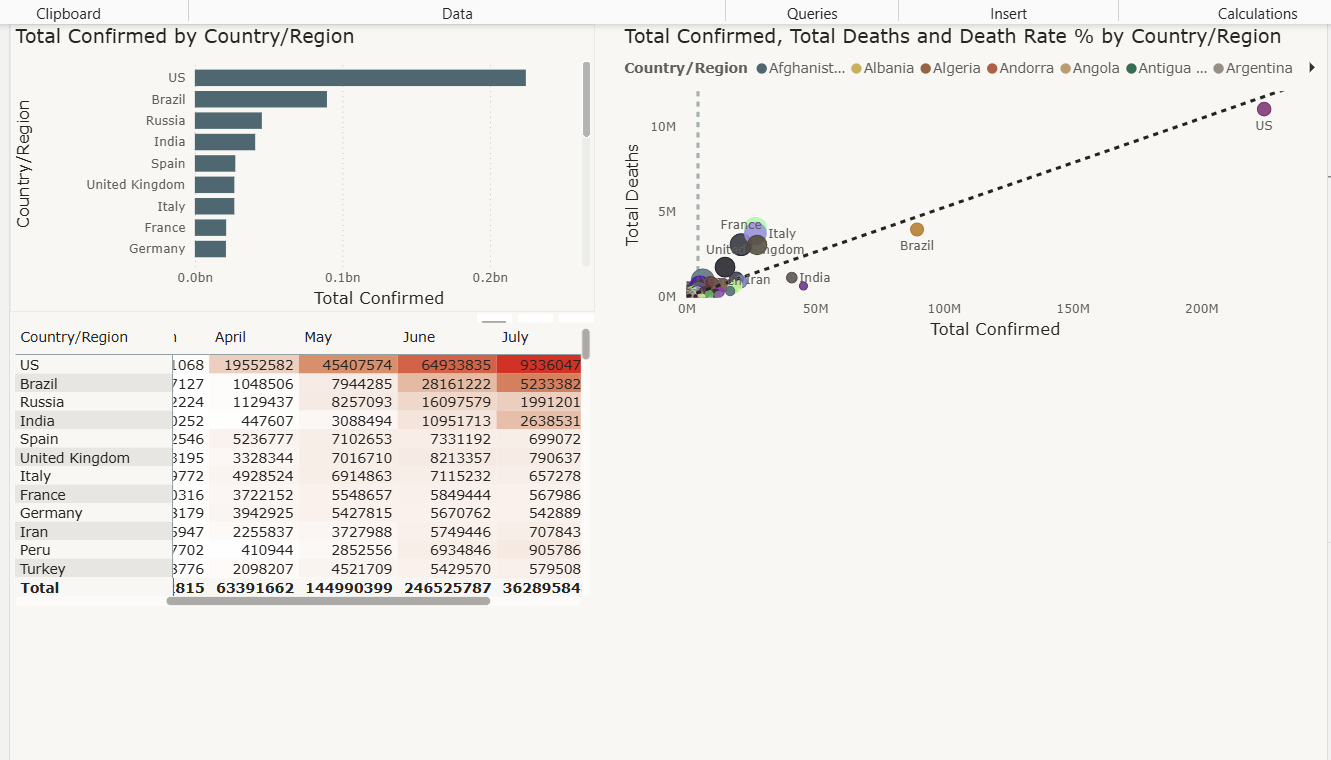

The dashboard page shown, as its layout file describes it:
{"tool":"powerbi","page":{"name":"Country Comparison","canvas":[1280,720],"ordinal":1},"visuals":[{"type":"clusteredBarChart","fields":{"Y":["Table.Total Confirmed"],"Category":["COVID.Country/Region"]},"box":[0,0,568.8,279.7],"z":0},{"type":"pivotTable","fields":{"Rows":["COVID.Country/Region"],"Columns":["Date.Month Name"],"Values":["Table.Total Confirmed"]},"box":[0,290,569,280],"z":1000},{"type":"scatterChart","fields":{"X":["_Measures.Total Confirmed"],"Y":["_Measures.Total Deaths"],"Size":["_Measures.Death Rate %"],"Series":["COVID.Country/Region"]},"box":[591.5,0,687.9,309.9],"z":2000}]}

Visuals, with their boxes on the page's 1280x720 design canvas (x1, y1, x2, y2). These are canvas units, not pixel positions in the 1331x760 screenshot, which may show the page scaled, cropped or inside an application window:
clusteredBarChart - Table.Total Confirmed x COVID.Country/Region: box(0, 0, 569, 280)
pivotTable - COVID.Country/Region x Date.Month Name: box(0, 290, 569, 570)
scatterChart - _Measures.Total Confirmed x _Measures.Total Deaths: box(592, 0, 1279, 310)
